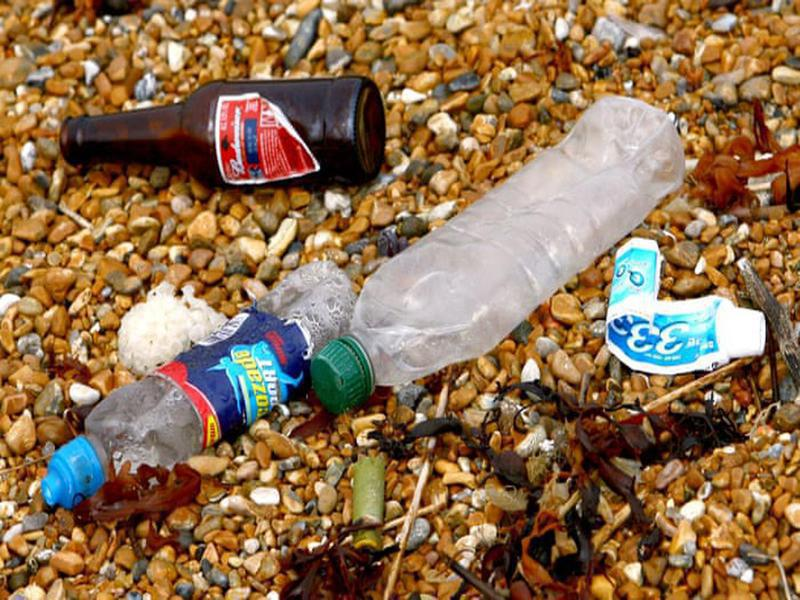bottle: (308, 92, 687, 415), (38, 258, 356, 509), (54, 75, 387, 195)
